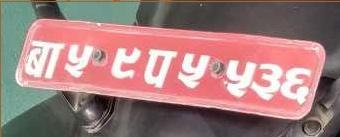3: (251, 51, 282, 108)
5: (177, 43, 211, 96), (222, 52, 258, 102), (64, 41, 97, 83)
6: (280, 57, 317, 111)
9: (106, 45, 143, 87)
ba: (23, 39, 64, 83)
pa: (143, 45, 178, 92)
